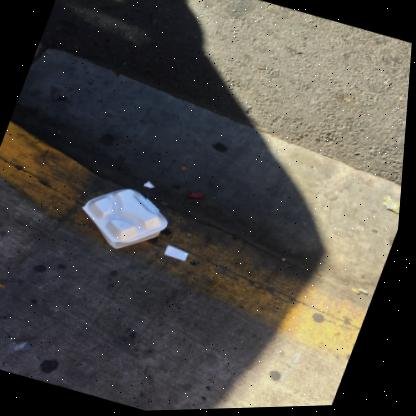Plastic: (3, 340, 43, 360), (191, 192, 205, 199)
Waste: (84, 188, 170, 248), (167, 245, 192, 261), (145, 181, 157, 188), (361, 289, 372, 295), (354, 289, 364, 295)
